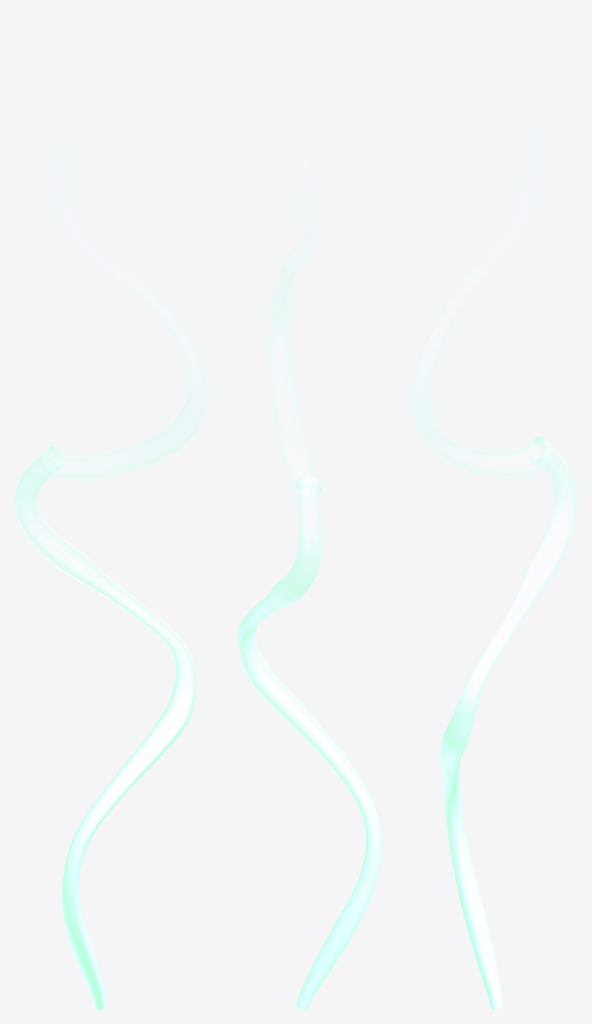
The model's file is strand_b_supply.glb.
3 renders of one model, left to right at view 1: azimuth 30°, elevation 25°; view 2: azimuth 150°, elevation 25°; view 3: azimuth 270°, elevation 25°, orthographic.
Bounding box in the file's own units: 1.3 × 9.03 × 1.37.
